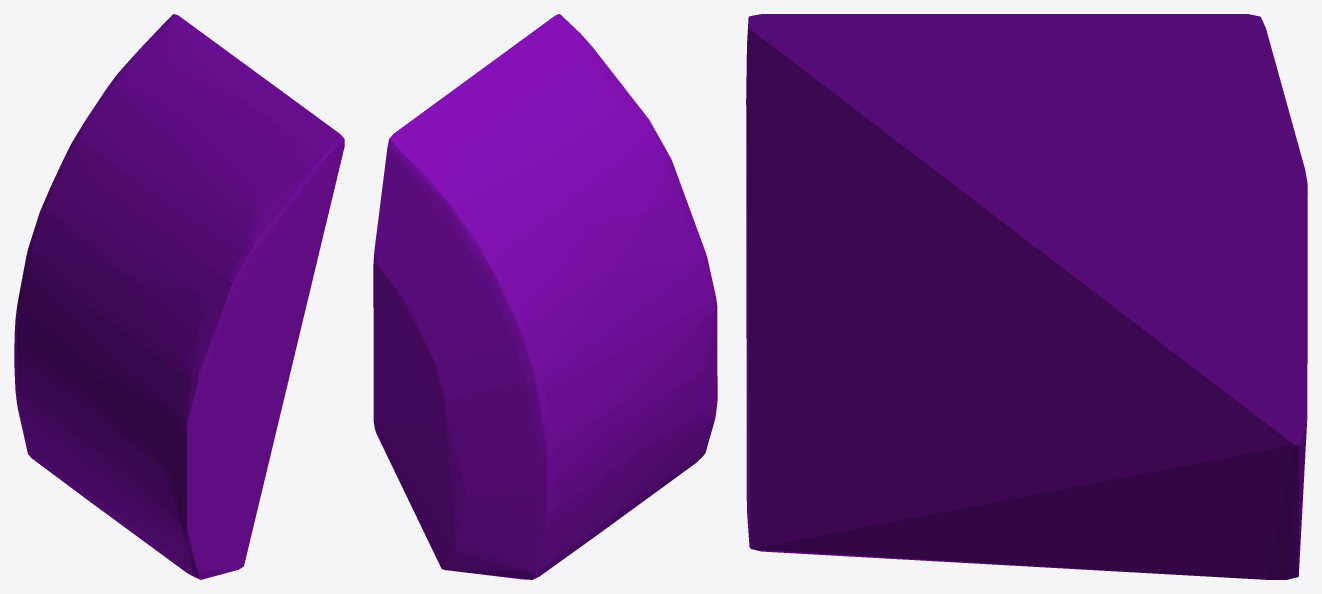
The model's file is left-shoulder-pitch-0_part_32.obj.
3 views of the same model, side by side, from view 1: azimuth 30°, elevation 25°; view 2: azimuth 150°, elevation 25°; view 3: azimuth 270°, elevation 25° (orthographic). The views are drawn at different scales.
Size of the model in its own units: 0.0178 by 0.0435 by 0.0356.
